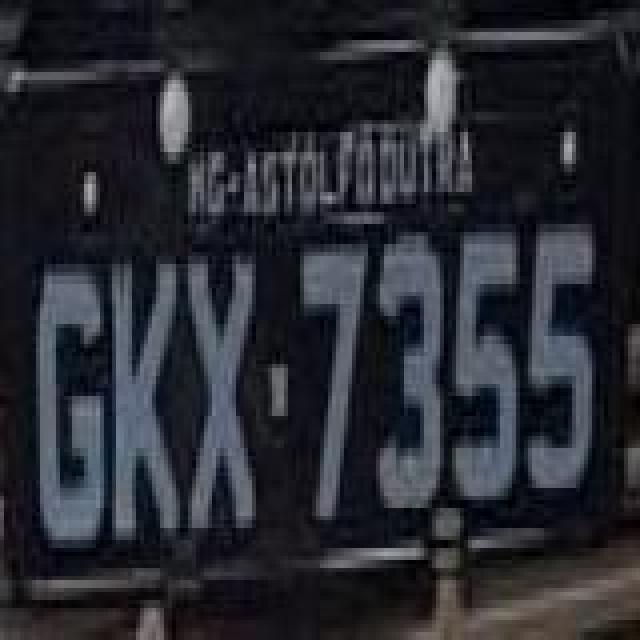3: (372, 234, 444, 518)
5: (452, 230, 524, 506), (524, 222, 596, 498)
7: (304, 242, 368, 526)
G: (36, 260, 108, 556)
K: (108, 258, 180, 542)
X: (184, 254, 256, 538)
